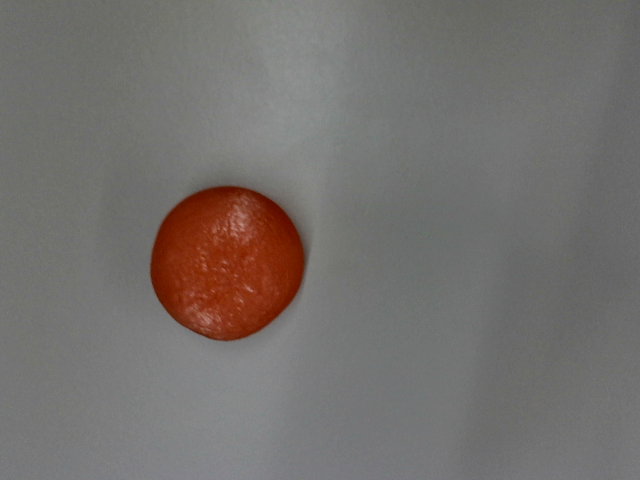orange: (119, 155, 332, 368)
